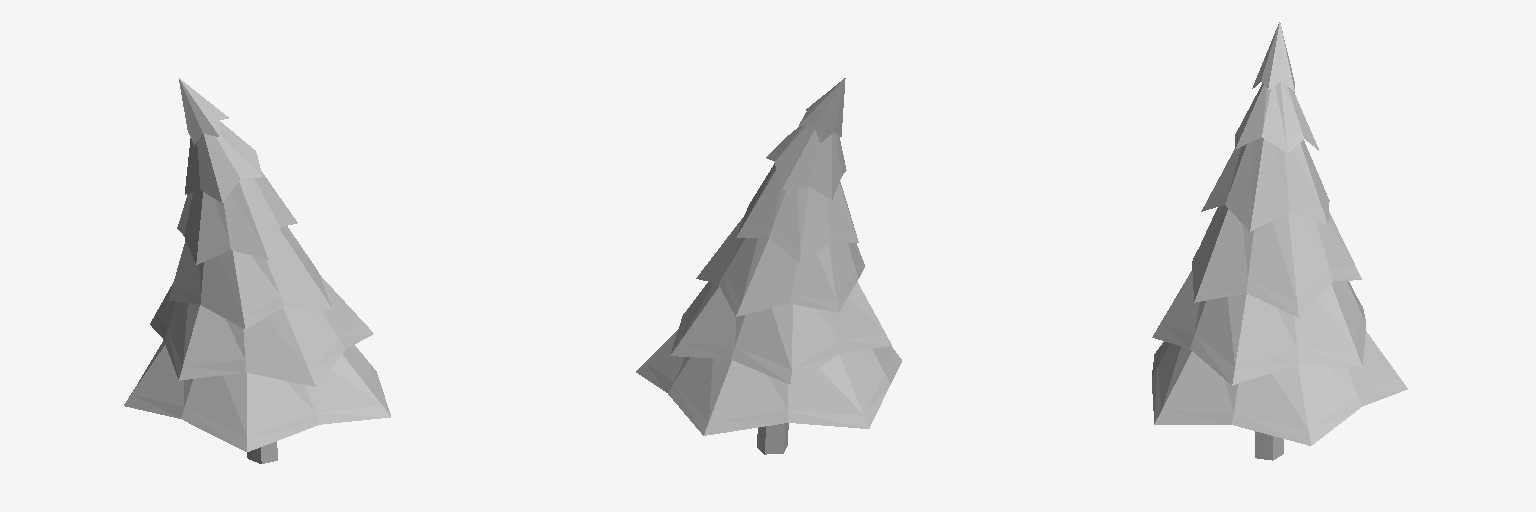
The model's file is Pine_Tree_2_Winter.obj.
The picture shows the model from 3 angles: view 1: azimuth 30°, elevation 25°; view 2: azimuth 150°, elevation 25°; view 3: azimuth 270°, elevation 25°; orthographic projection.
Parts seen in each view (by area): view 1: Pine_Tree_2_Winter_Cylinder.045; view 2: Pine_Tree_2_Winter_Cylinder.045; view 3: Pine_Tree_2_Winter_Cylinder.045.
Part boxes in pixels (left/top/right/bottom): Pine_Tree_2_Winter_Cylinder.045: left=124, top=78, right=390, bottom=463; Pine_Tree_2_Winter_Cylinder.045: left=636, top=78, right=901, bottom=454; Pine_Tree_2_Winter_Cylinder.045: left=1152, top=22, right=1407, bottom=460.
Bounding box in the file's own units: 3.96 × 6.39 × 3.77.